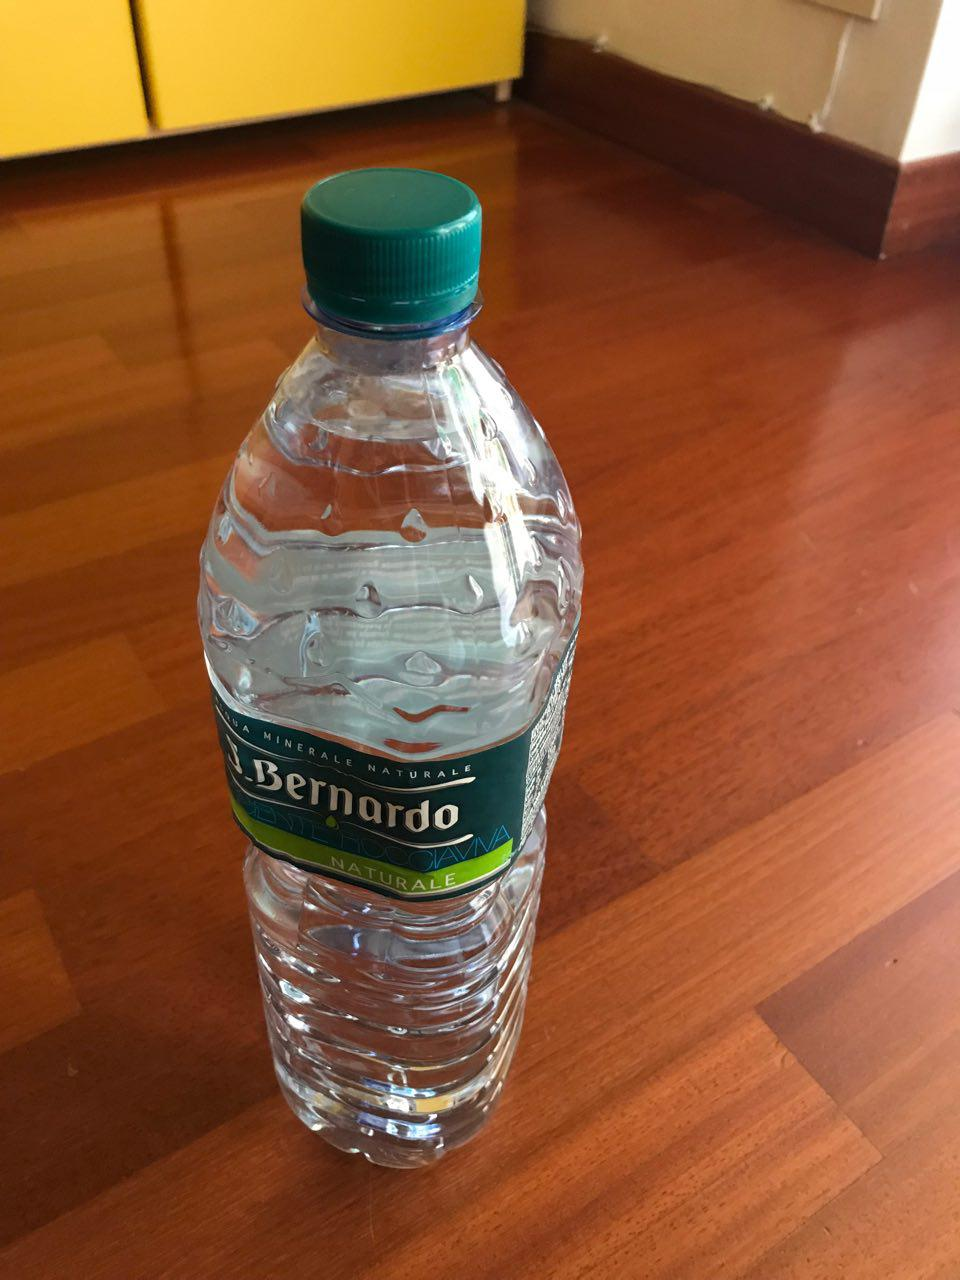san_bernardo: (195, 163, 585, 1175)
